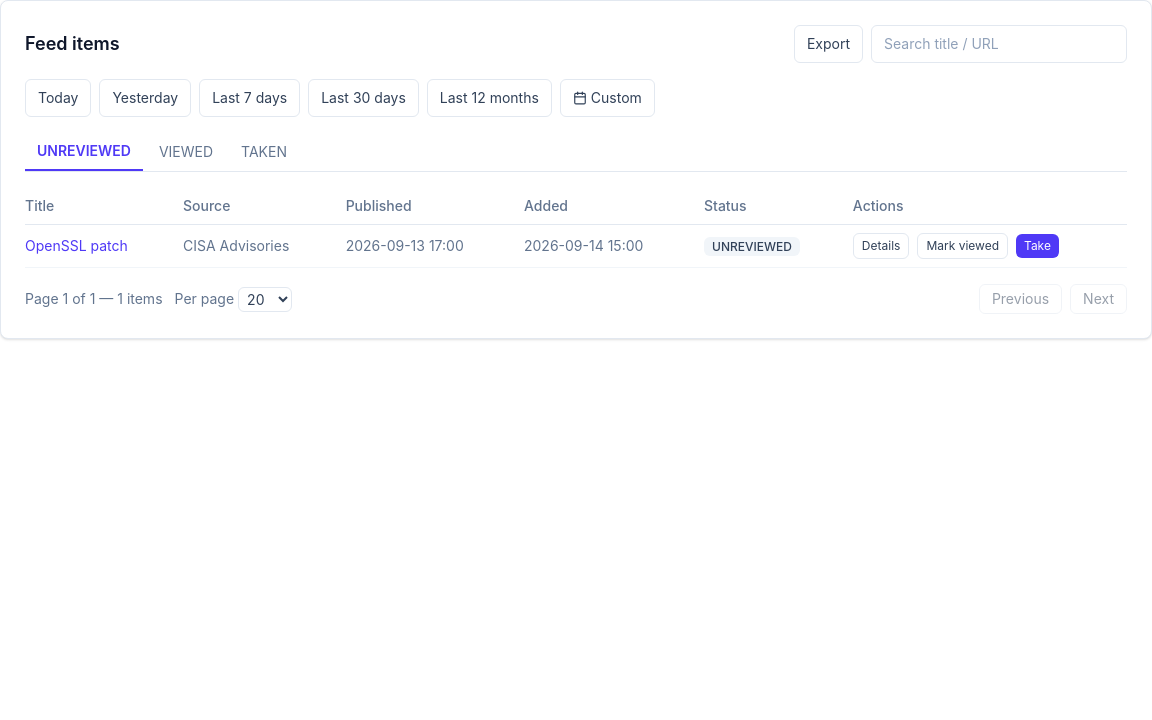
Test: FE-ITEM-03: Added column and details modal › Details opens a modal with normalized fields and the raw JSON, and marks UNREVIEWED as viewed
# the analyst opens Details on the UNREVIEWED row
Click the button "Details". click: (881, 246)
box: top-left (853, 233), bottom-right (909, 259)
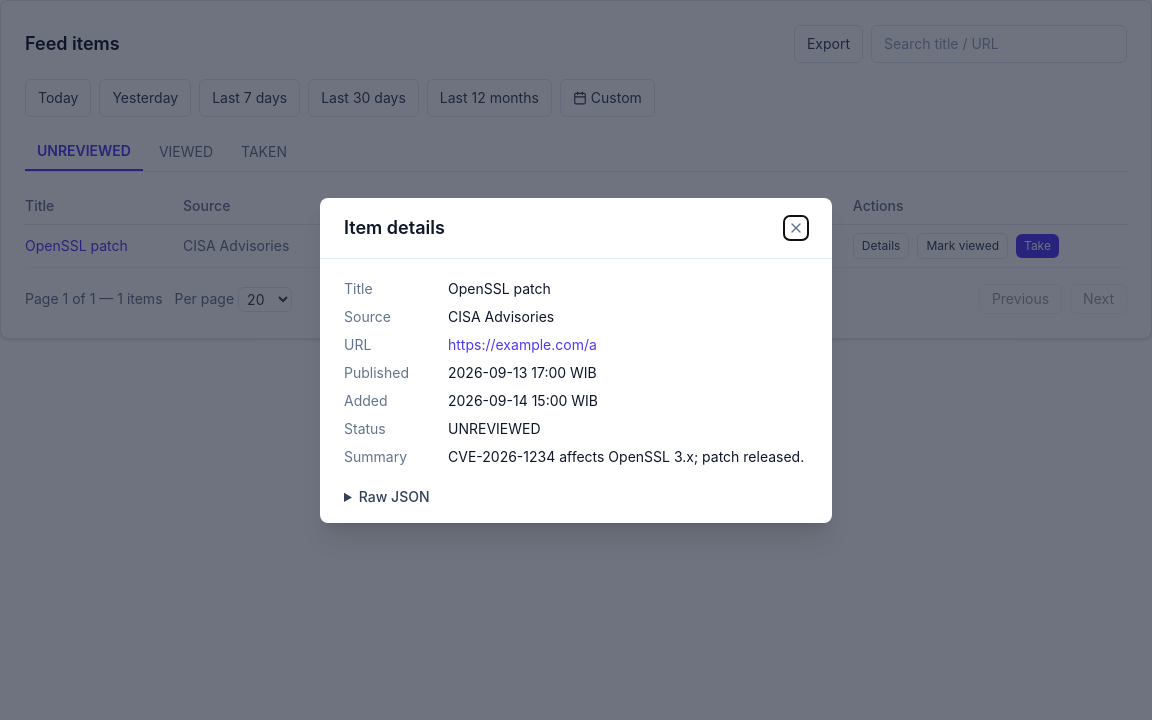
Expected: the text "OpenSSL patch" is shown, top-left (448, 278), bottom-right (551, 298)
Expected: the text "CISA Advisories" is shown, top-left (448, 306), bottom-right (554, 326)
Expected: the text "2026-09-13 17:00 WIB" is shown, top-left (448, 364), bottom-right (597, 380)
